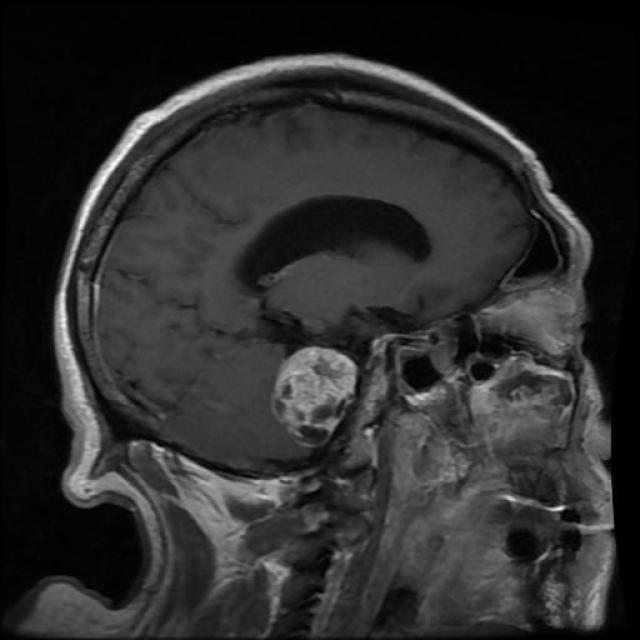meningioma: (270, 348, 356, 446)
